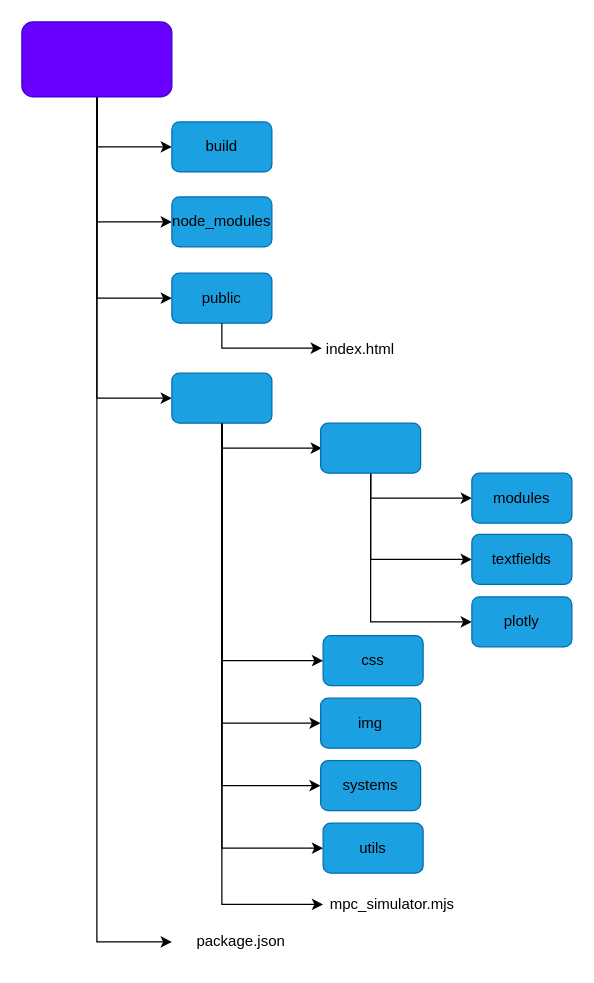
This 594x983 diagram has some shape labels left out. The centre of each missing label's shape, as x and y in pixels:
"components" belongs at point (370, 447).
"src" belongs at point (221, 397).
"Web-application" belongs at point (96, 59).
